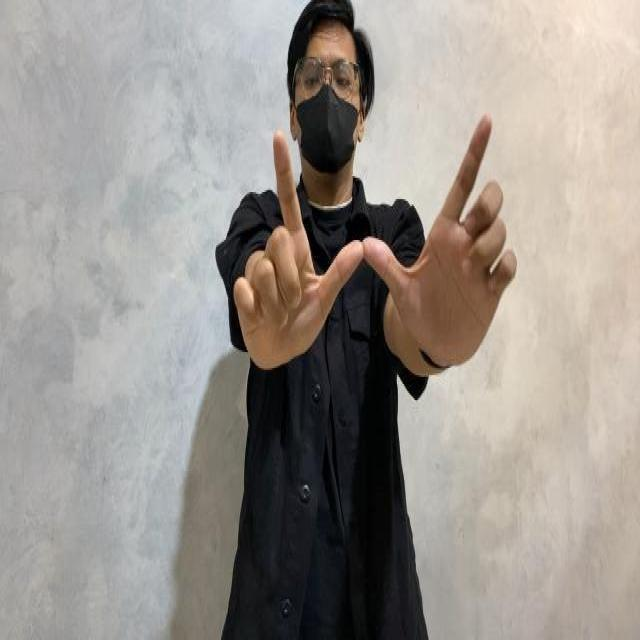W: (230, 109, 532, 368)
